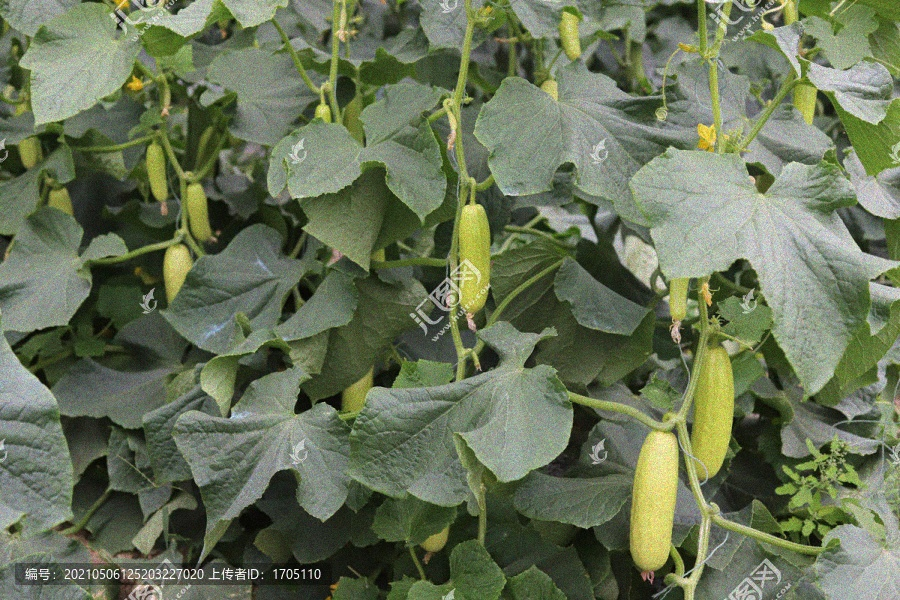cucumber_plant: (647, 115, 863, 390), (189, 378, 565, 521), (29, 1, 187, 130)
